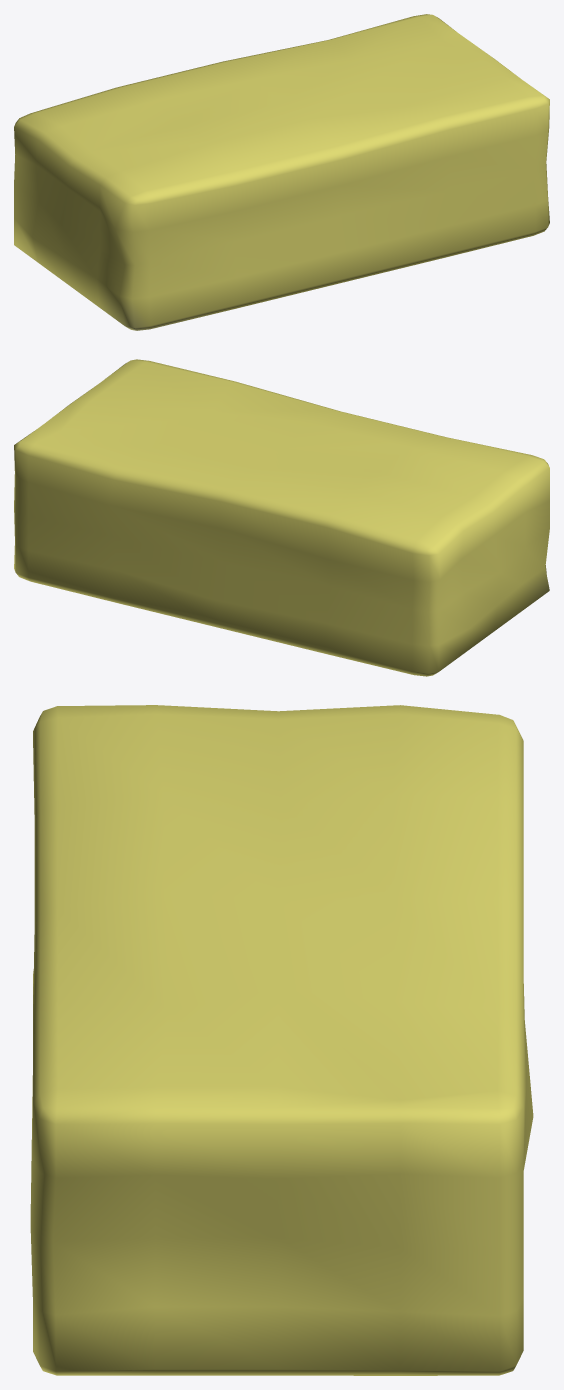
File: Brunch-Butter.fbx
3 renders of one model, top to bottom at view 1: azimuth 30°, elevation 25°; view 2: azimuth 150°, elevation 25°; view 3: azimuth 270°, elevation 25°, orthographic. The views are drawn at different scales.
Visible parts, largest first — view 1: Brunch-Butter; view 2: Brunch-Butter; view 3: Brunch-Butter.
Part boxes in pixels (x1,y1,x2,y2): Brunch-Butter: (14,14,549,330); Brunch-Butter: (14,359,549,676); Brunch-Butter: (30,705,533,1375).
Bounding box in the file's own units: 1220 × 400 × 615.
